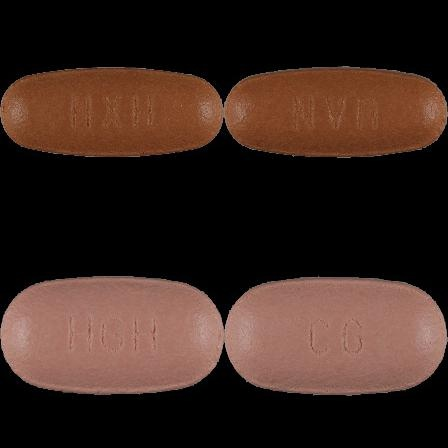49999-879: (0, 0, 224, 224)
